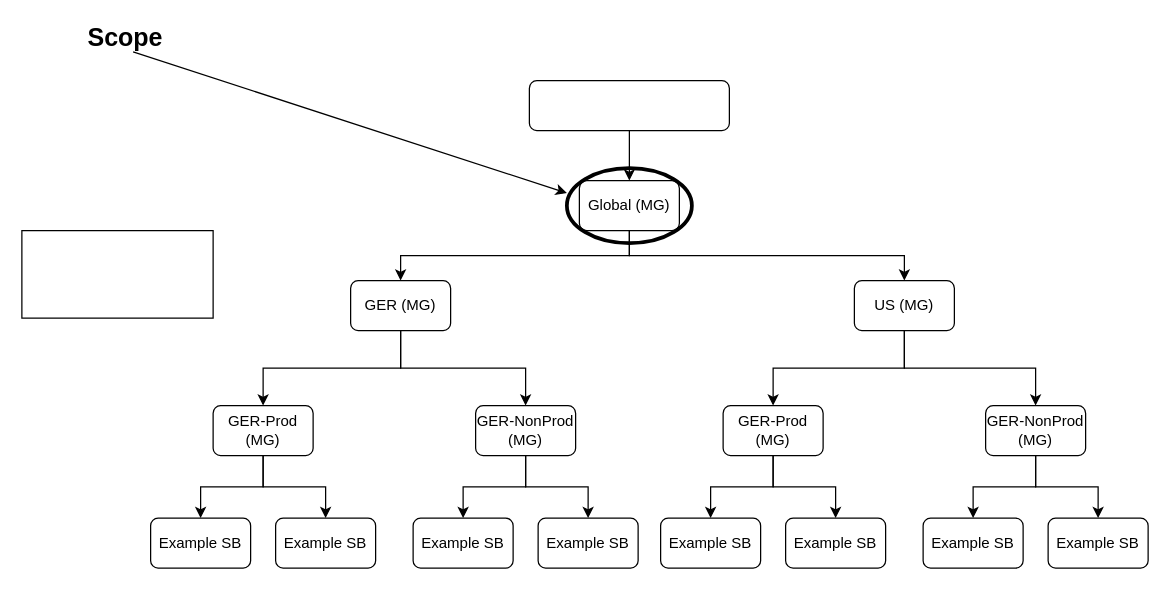
This 1170x590 diagram has some shape labels left out. Each missing label, with the centre of its shape:
KEY: MG - Management Group SB - Subscription: (117,273)
Root Management Group: (628,105)
